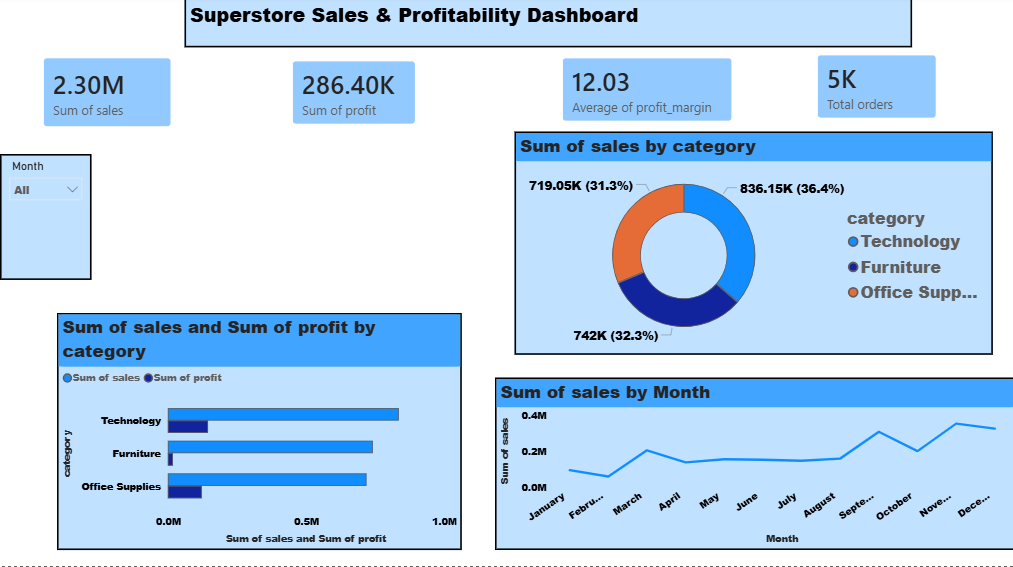

Layout of this report page (visuals, bound fields, positions):
{"tool":"powerbi","page":{"name":"Overview","canvas":[1280,720],"ordinal":0},"visuals":[{"type":"cardVisual","fields":{"Data":["Sum(superstore_db orders.sales)"]},"box":[37.8,62.4,194.6,120.9],"z":0},{"type":"cardVisual","fields":{"Data":["Sum(superstore_db orders.profit)"]},"box":[351.5,66.1,189,113.4],"z":1000},{"type":"cardVisual","fields":{"Data":["Avg(superstore_db orders.profit_margin)"]},"box":[691.7,62.4,247.6,113.4],"z":2000},{"type":"cardVisual","fields":{"Data":["superstore_db orders.Total orders"]},"box":[1012.9,58.6,183.3,113.4],"z":3000},{"type":"clusteredBarChart","fields":{"Y":["Sum(superstore_db orders.sales)","Sum(superstore_db orders.profit)"],"Category":["superstore_db orders.category"]},"box":[71.8,400.6,510.2,298.6],"z":4000},{"type":"donutChart","fields":{"Y":["Sum(superstore_db orders.sales)"],"Category":["superstore_db orders.category"]},"box":[648.2,172,602.8,281.6],"z":5000},{"type":"lineChart","fields":{"Y":["Sum(superstore_db orders.sales)"],"Category":["superstore_db orders.order_date.Variation.Date Hierarchy.Month"]},"box":[623.6,481.9,655.8,217.3],"z":6000},{"type":"slicer","fields":{"Values":["superstore_db orders.order_date.Variation.Date Hierarchy.Month"]},"box":[0,200.3,115.3,158.7],"z":7000},{"type":"textbox","box":[232.4,0,916.5,66.1],"z":8000}]}

Visuals, with their boxes in screenshot pixels (x1, y1, x2, y2), scaled from the page's 1280x720 canvas onto the 1013x567 screenshot:
cardVisual - Sum(superstore_db orders.sales): (30, 49, 184, 144)
cardVisual - Sum(superstore_db orders.profit): (278, 52, 428, 141)
cardVisual - Avg(superstore_db orders.profit_margin): (547, 49, 743, 138)
cardVisual - superstore_db orders.Total orders: (802, 46, 947, 135)
clusteredBarChart - Sum(superstore_db orders.sales) x Sum(superstore_db orders.profit): (57, 315, 461, 551)
donutChart - Sum(superstore_db orders.sales) x superstore_db orders.category: (513, 135, 990, 357)
lineChart - Sum(superstore_db orders.sales) x superstore_db orders.order_date.Variation.Date Hierarchy.Month: (494, 379, 1012, 551)
slicer - superstore_db orders.order_date.Variation.Date Hierarchy.Month: (0, 158, 91, 283)
textbox: (184, 0, 909, 52)
